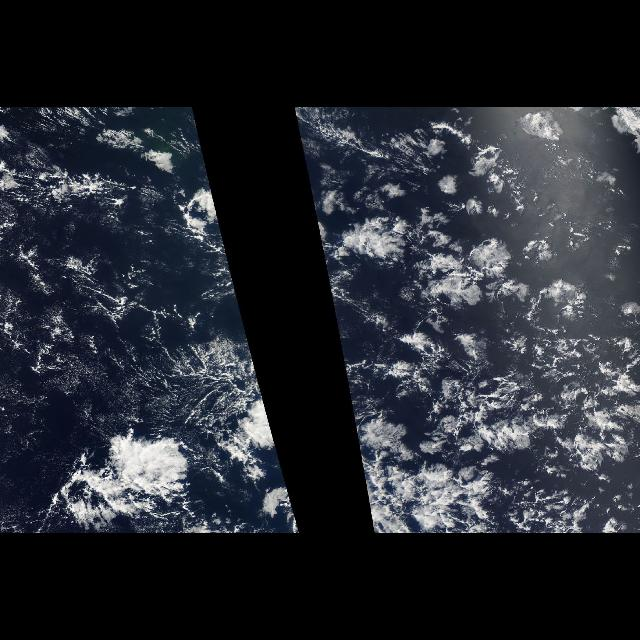Flower: (374, 152, 640, 452)
Gravel: (4, 248, 256, 434)
